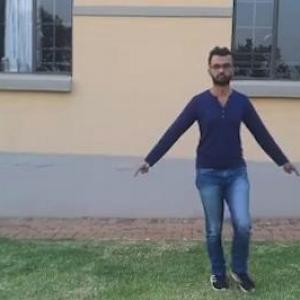land: (152, 67, 290, 257)
